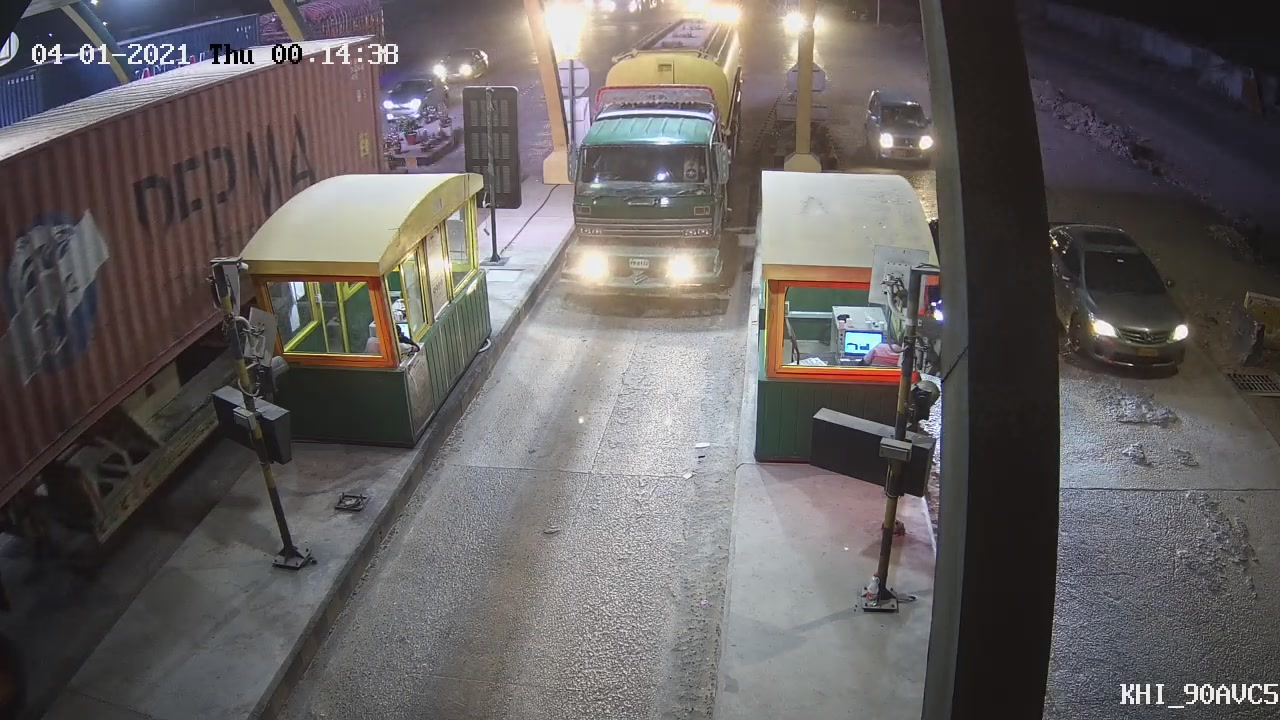F5: (553, 48, 748, 326)
